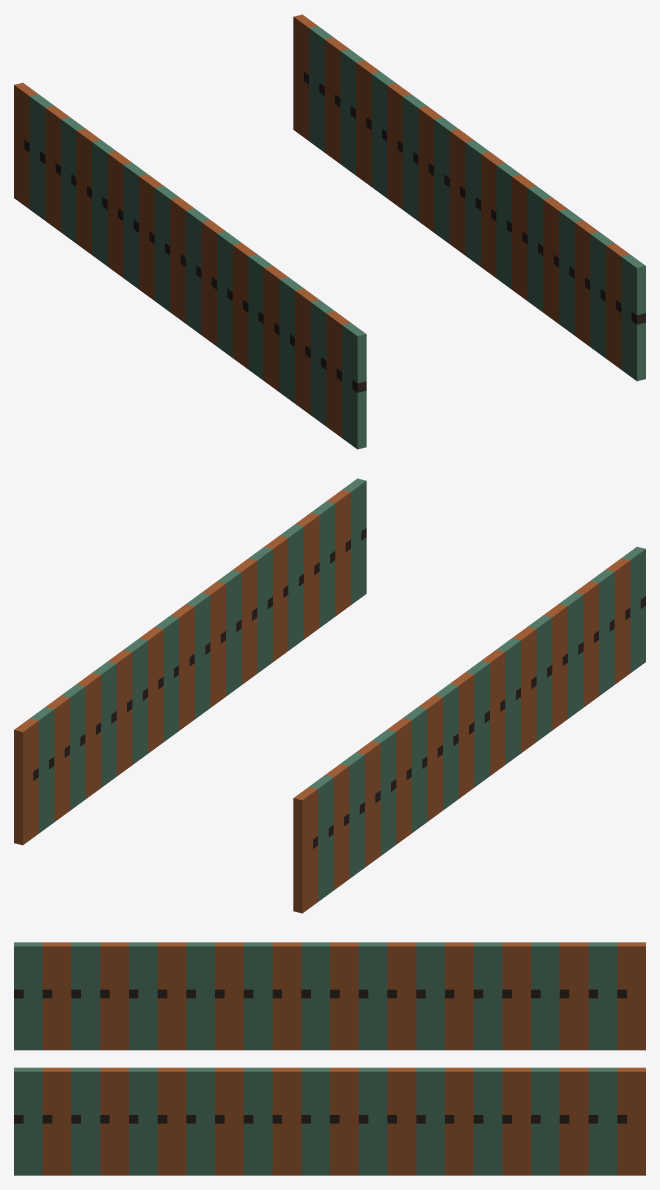
Rendered from upg_skiff_copper_hull.glb.
3 views of the same model, one above another, from view 1: azimuth 30°, elevation 25°; view 2: azimuth 150°, elevation 25°; view 3: azimuth 270°, elevation 25° (orthographic). The views are drawn at different scales.
Parts seen in each view (by area): view 1: upg_skiff_copper_hull; view 2: upg_skiff_copper_hull; view 3: upg_skiff_copper_hull.
Boxes of the visible parts, x1,y1,x2,y2 form: upg_skiff_copper_hull: (14,14,645,449); upg_skiff_copper_hull: (14,478,645,913); upg_skiff_copper_hull: (14,942,645,1175).
Bounding box in the file's own units: 2.56 × 0.96 × 5.28.
